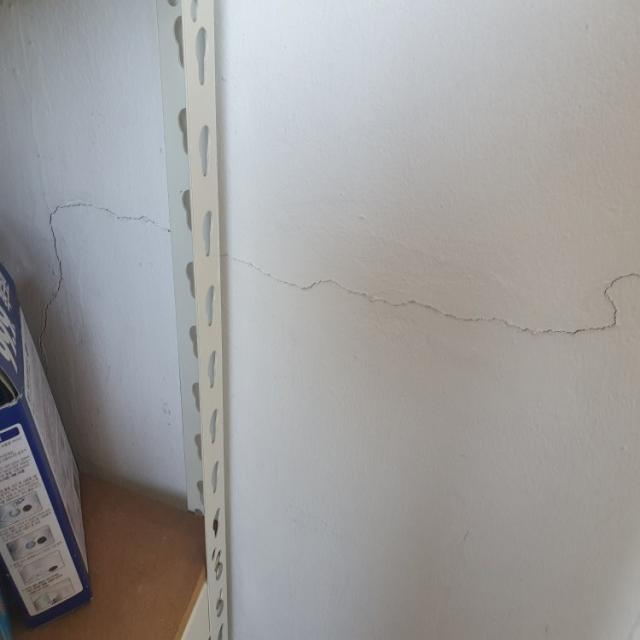Crack: (222, 254, 639, 335)
